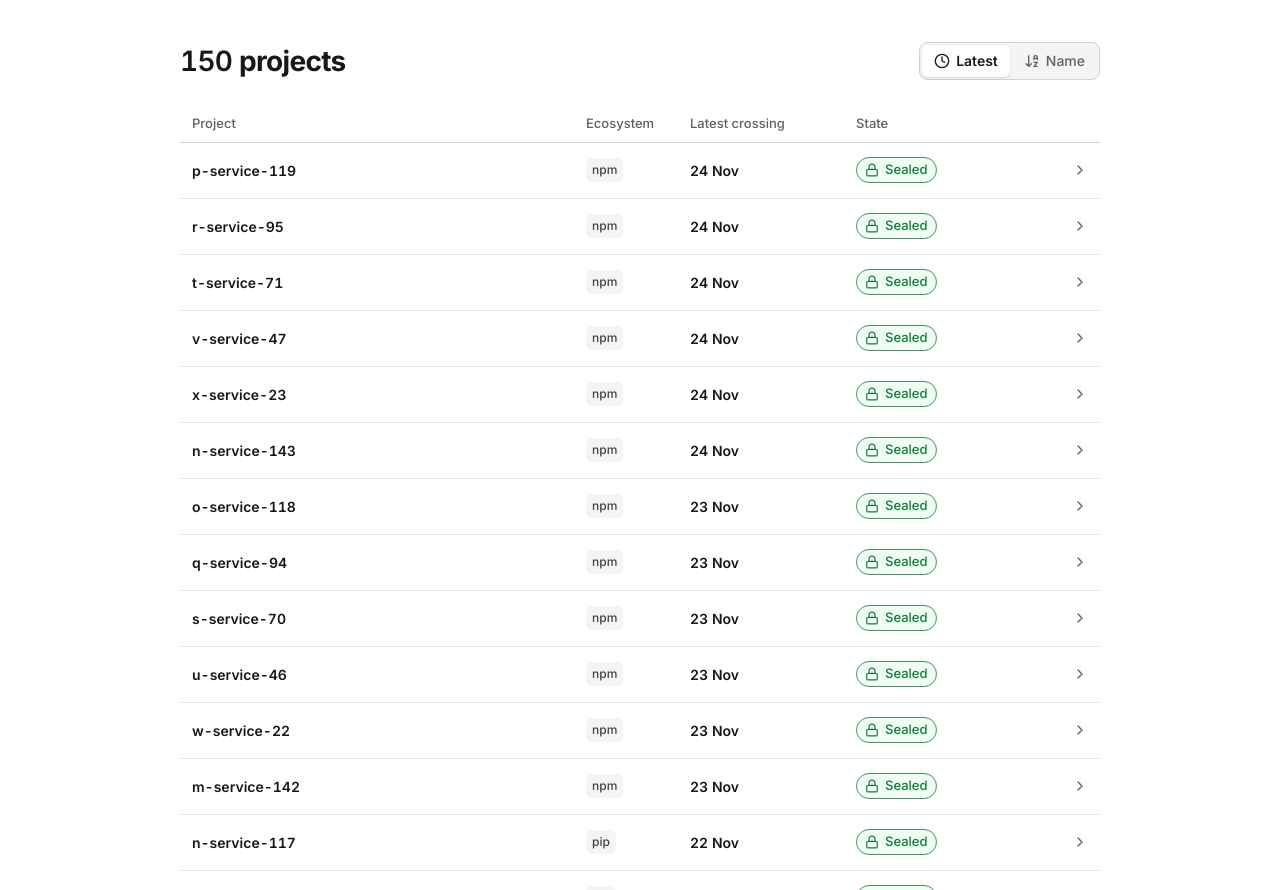
Test case: ProjectsList › lists all 150 under their letters in Name with every name whole
Click the button "Name".
click(1054, 61)  # box [1012, 45, 1097, 77]
(page scrolled)
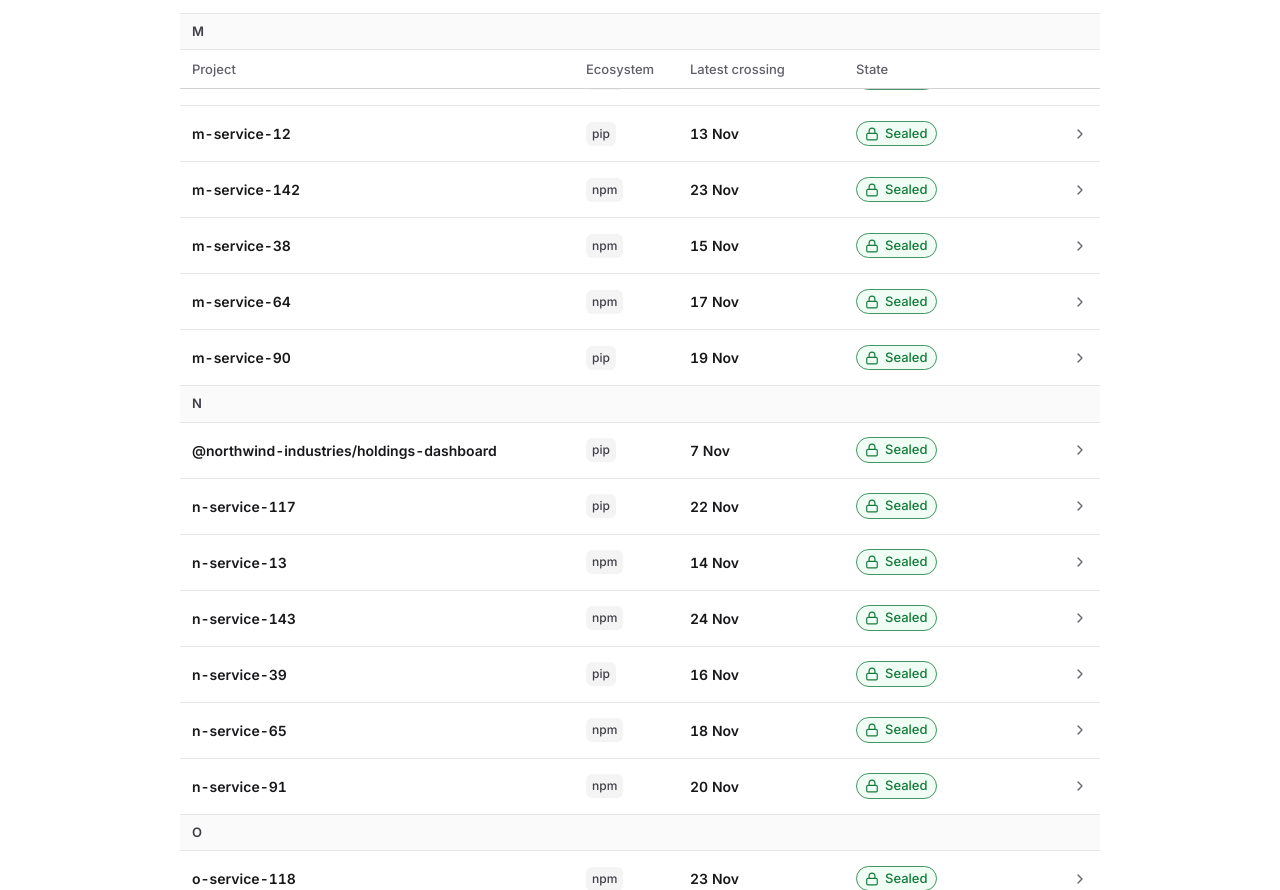
Expected: the text "@northwind-industries/holdings-dashboard" is shown, [192, 442, 497, 458]
